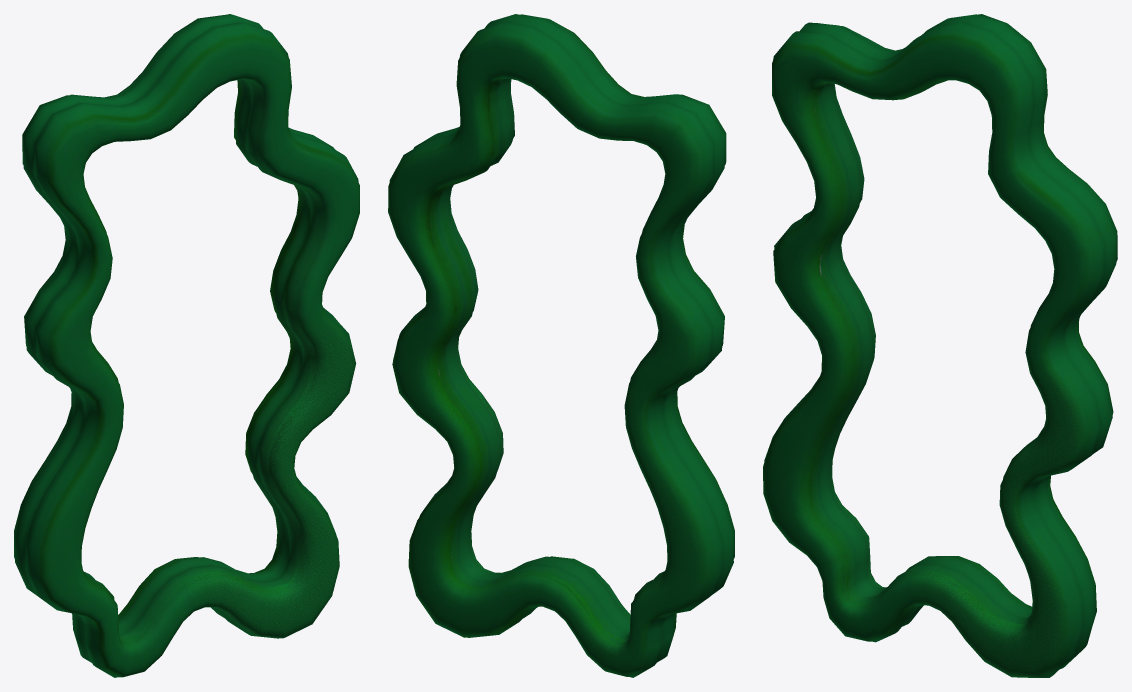
Rendered from tripo_convert_c7569f1a-fd76-4f24-ba2b-f041563c80d5.fbx.
The picture shows the model from 3 angles, left to right: view 1: azimuth 30°, elevation 25°; view 2: azimuth 150°, elevation 25°; view 3: azimuth 330°, elevation 25°; orthographic projection. The views are drawn at different scales.
Visible parts, largest first — view 1: tripo_node_c7569f1a; view 2: tripo_node_c7569f1a; view 3: tripo_node_c7569f1a.
Boxes of the visible parts, left/top/right/bottom form: tripo_node_c7569f1a: left=14, top=14, right=359, bottom=677; tripo_node_c7569f1a: left=388, top=14, right=734, bottom=677; tripo_node_c7569f1a: left=763, top=14, right=1117, bottom=677.
Bounding box in the file's own units: 0.5379 × 0.9754 × 0.0997.
1 material, 1 textured.
